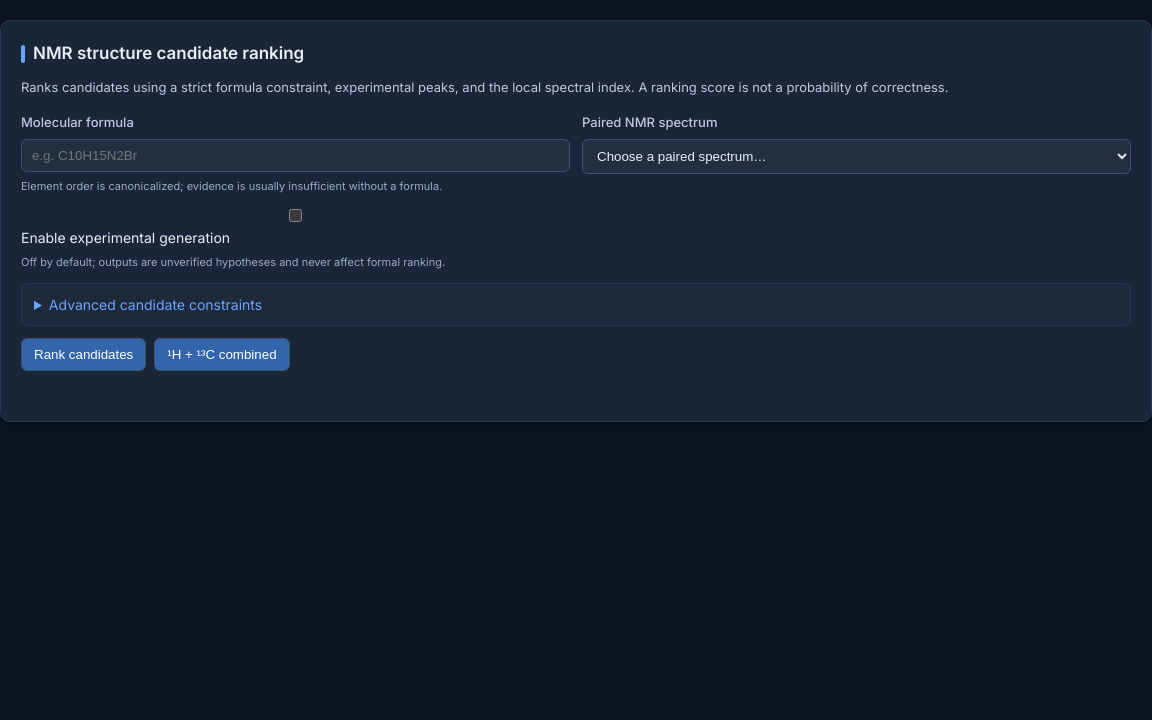
Test: prediction claim and request safety › does not advertise a calibrated probability for closed policy
Click the button "Rank candidates": click(84, 354) [21,338,146,371]
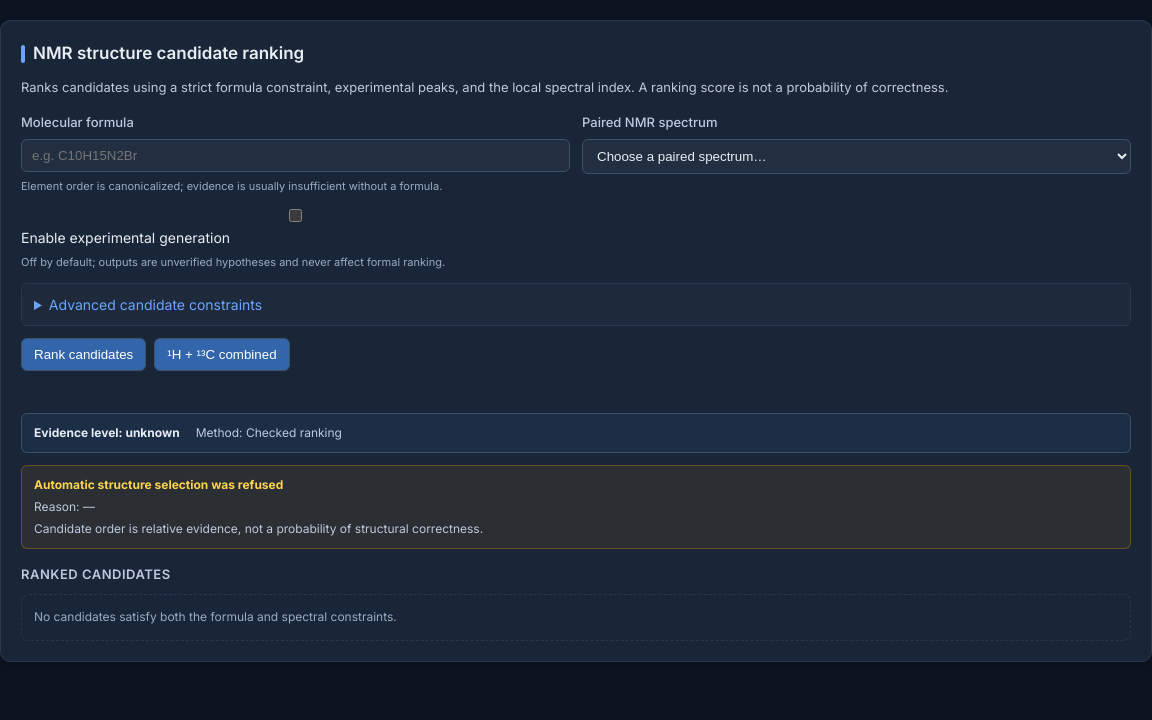
Now the text "Method: Checked ranking" is shown, box [196,424,342,442]
Now the text "Candidate order is relative evidence, not a probability of structural correctness." is shown, box [34,521,483,536]
